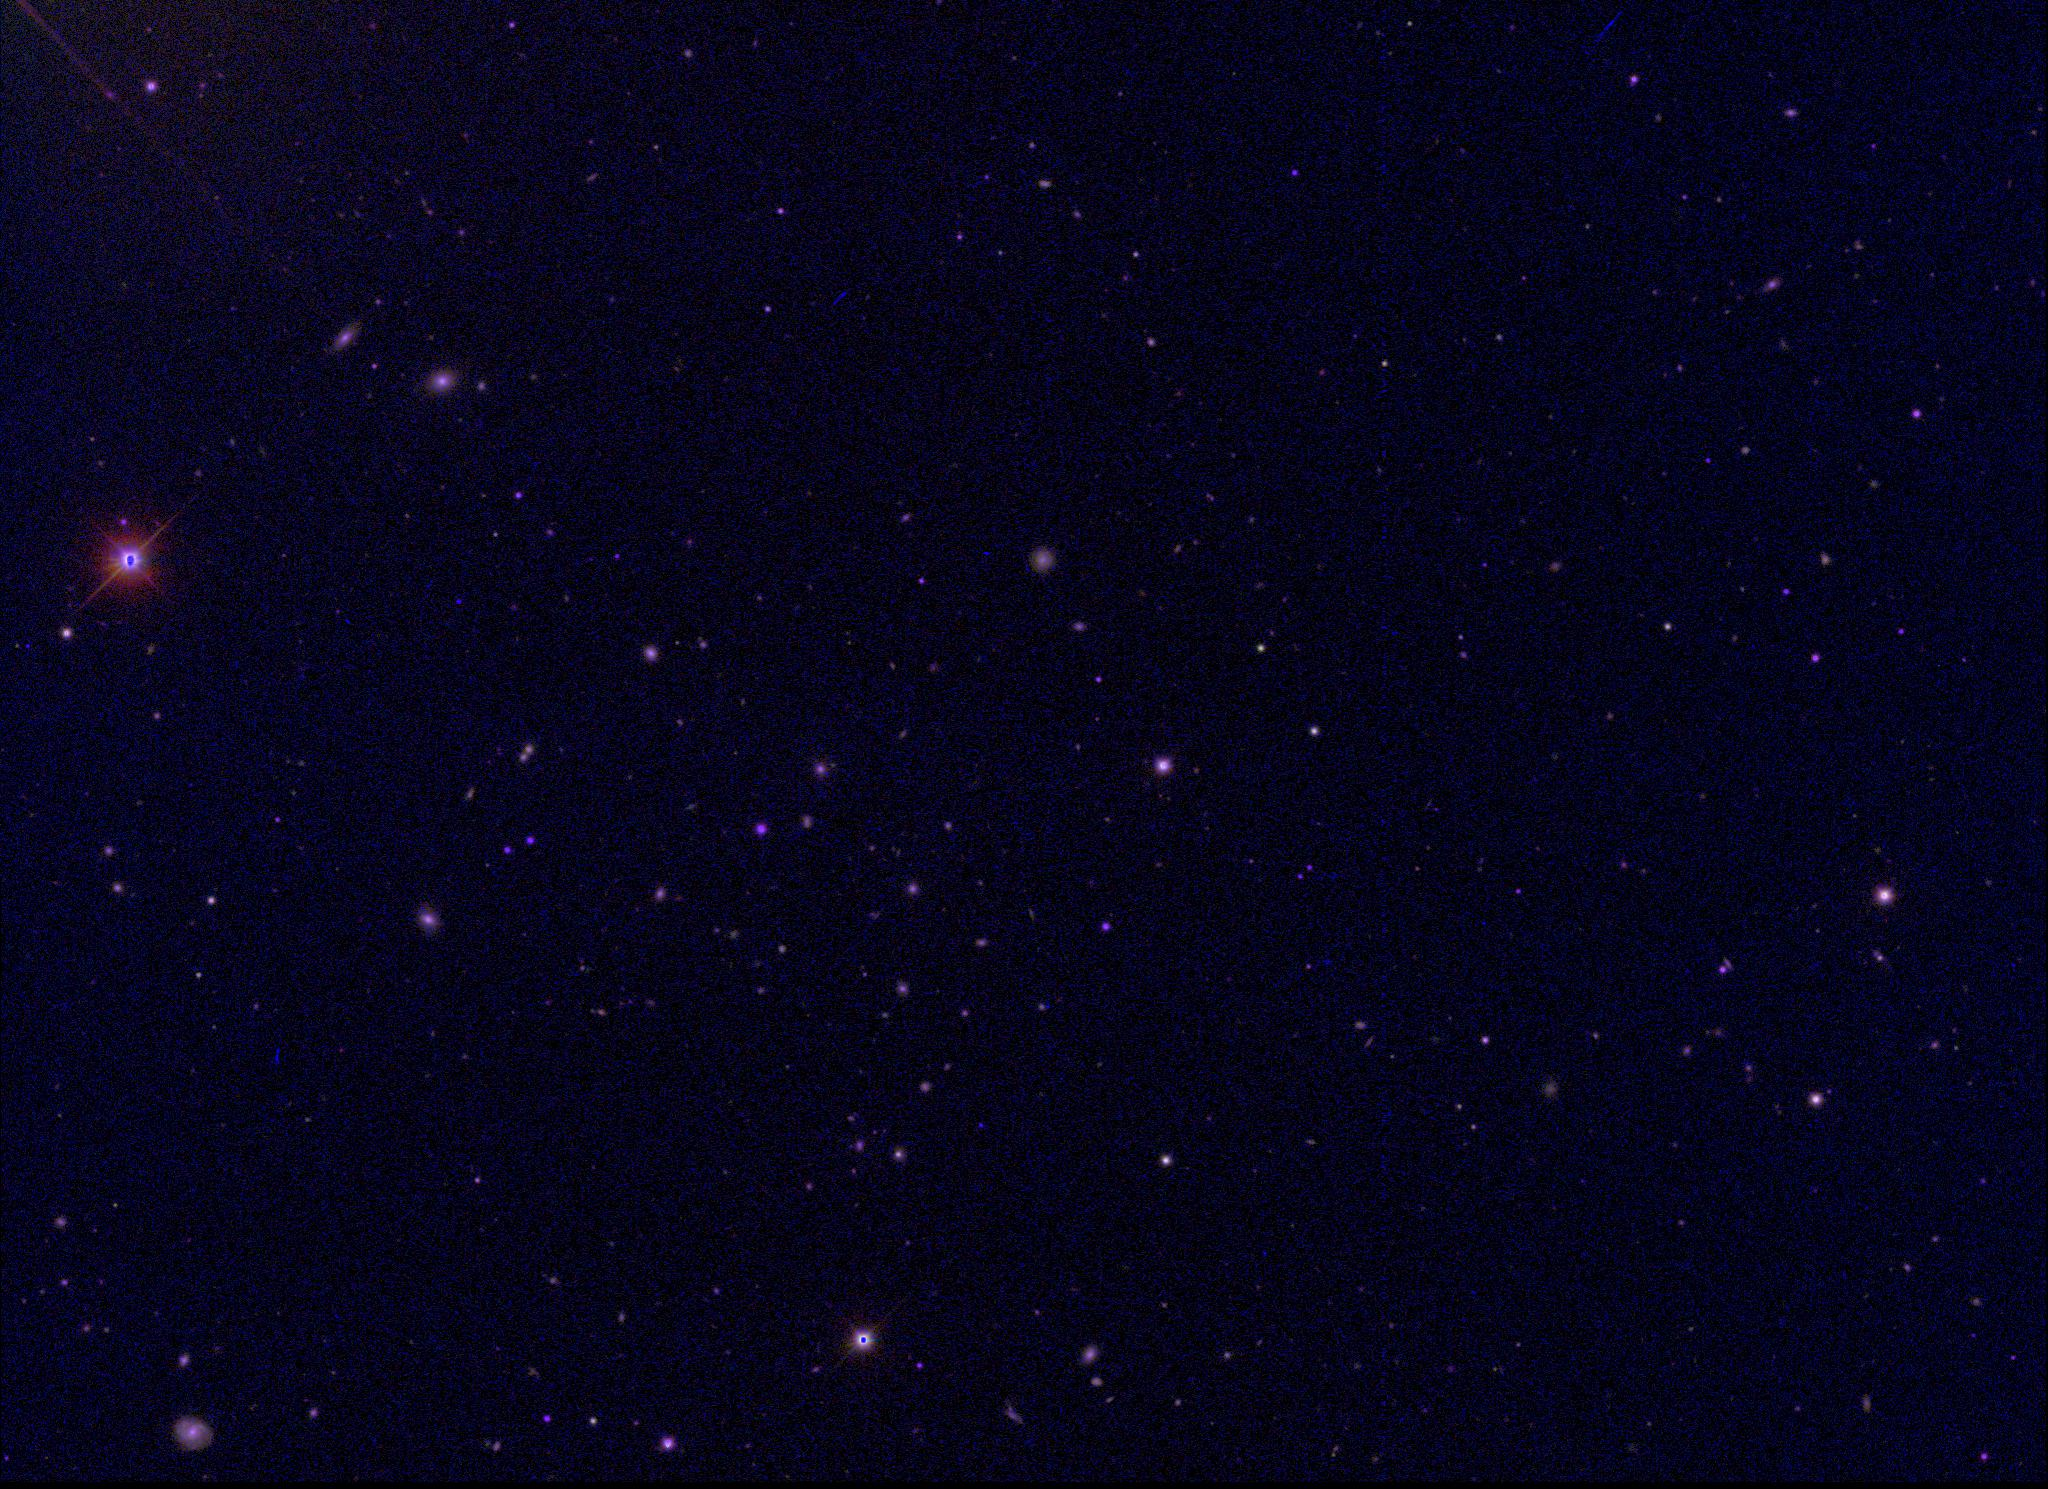L: (452, 593, 466, 608)
